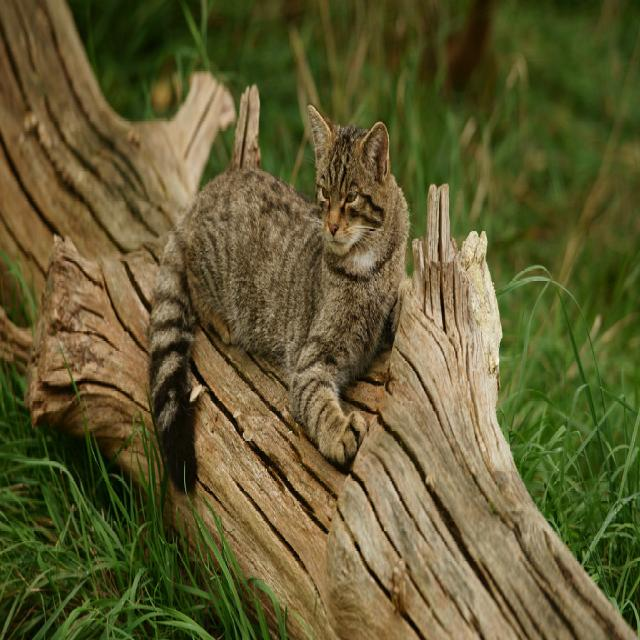Cat: (134, 96, 418, 492)
